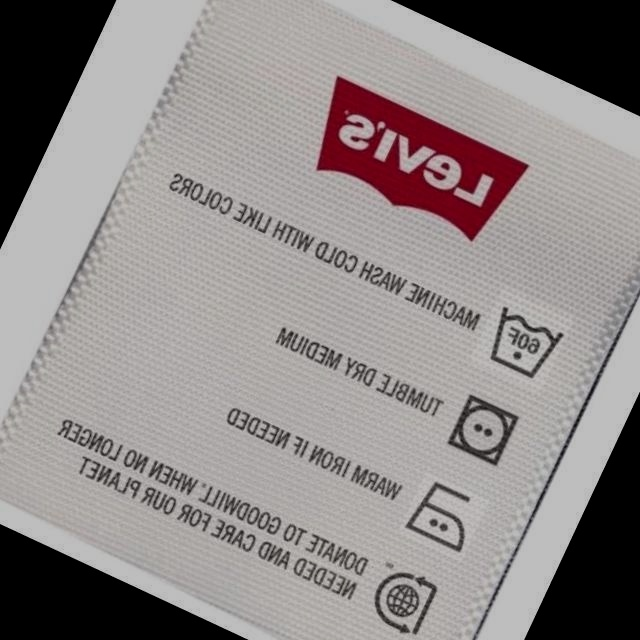30C: (488, 302, 561, 379)
iron_medium: (402, 477, 477, 552)
tumble_dry_medium: (444, 392, 518, 465)
